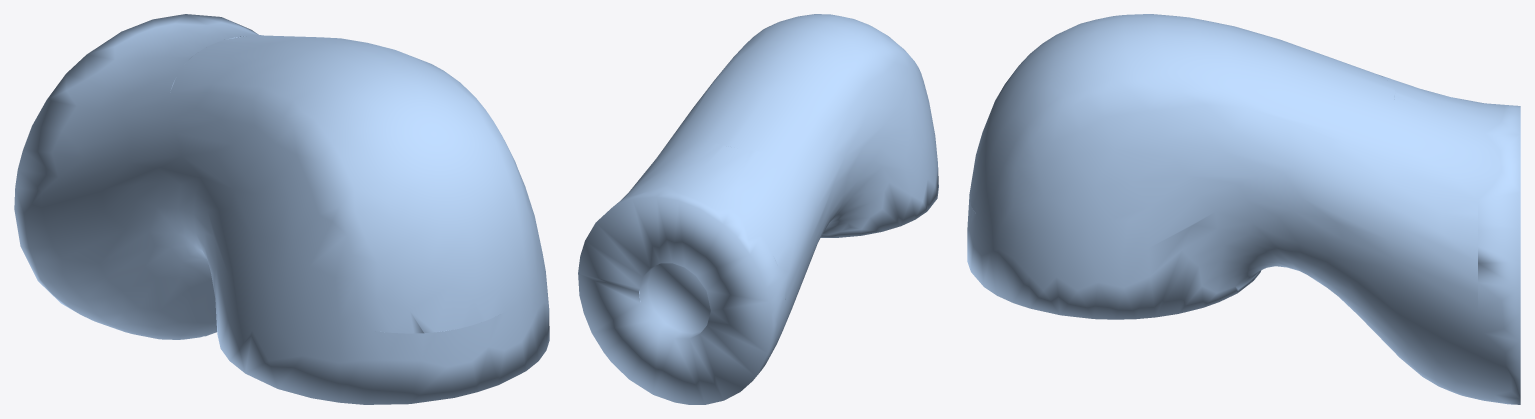
The picture shows the model from 3 angles, left to right: view 1: azimuth 30°, elevation 25°; view 2: azimuth 150°, elevation 25°; view 3: azimuth 270°, elevation 25°; orthographic projection. The views are drawn at different scales.
Visible parts, largest first — view 1: Link_4; view 2: Link_4; view 3: Link_4.
Part boxes in pixels (x1=…): Link_4: x1=14, y1=14, x2=549, y2=404; Link_4: x1=578, y1=14, x2=938, y2=404; Link_4: x1=967, y1=14, x2=1520, y2=404.
Size of the model in its own units: 0.1361 by 0.2524 by 0.1826.
